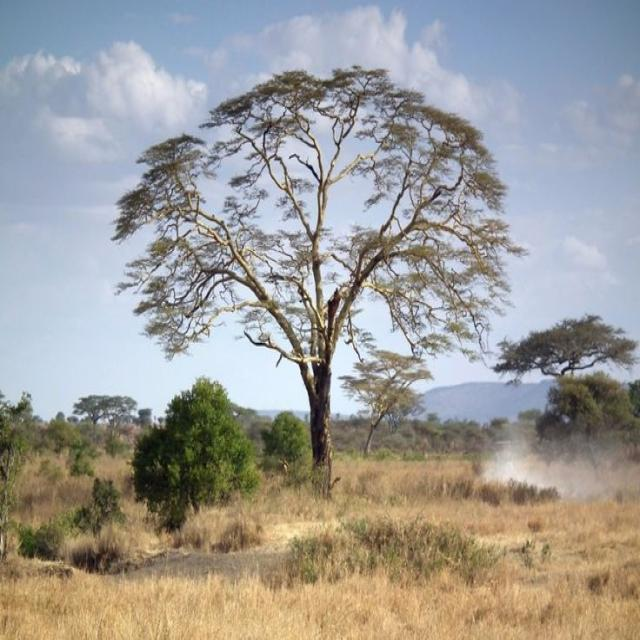Acacia: (102, 71, 518, 432)
